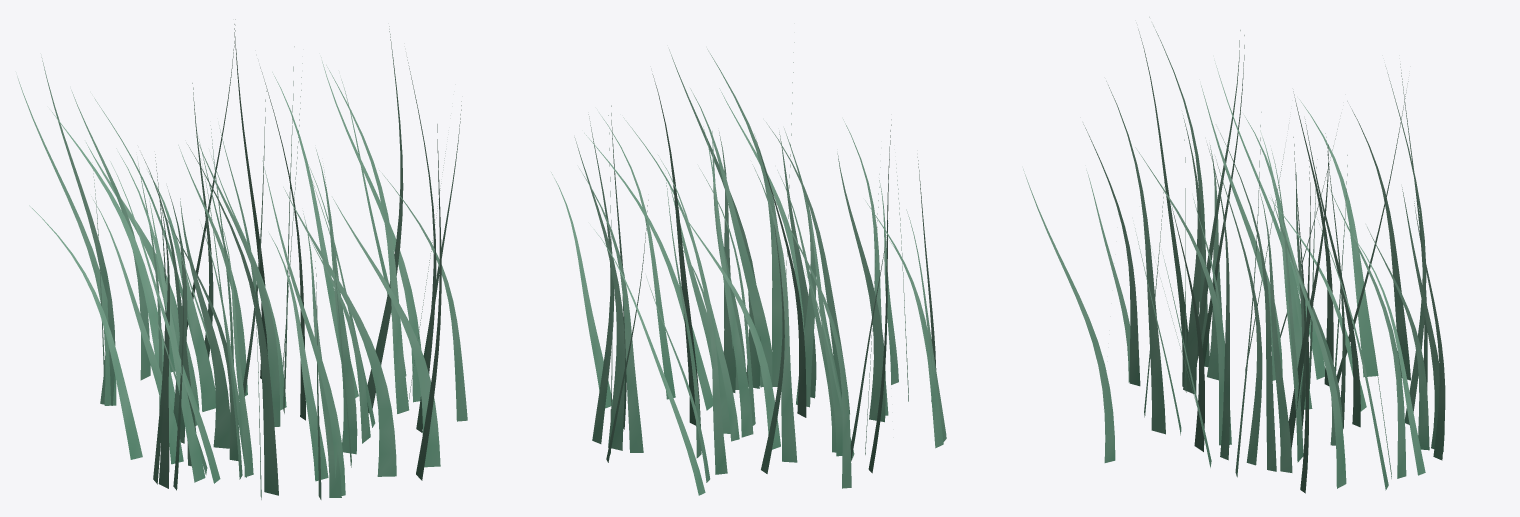
File: mesh-plant-003-moonlit-ribbonweed_LOD0.glb
The picture shows the model from 3 angles, left to right: view 1: azimuth 30°, elevation 25°; view 2: azimuth 150°, elevation 25°; view 3: azimuth 270°, elevation 25°; orthographic projection. The views are drawn at different scales.
Visible parts, largest first — view 1: geometry_0; view 2: geometry_0; view 3: geometry_0.
Part boxes in pixels (box(x1,y1,x2,y2)): geometry_0: box(17, 19, 467, 499); geometry_0: box(551, 42, 946, 495); geometry_0: box(1023, 17, 1445, 493).
Bounding box in the file's own units: 2.3 × 1.87 × 2.37.
